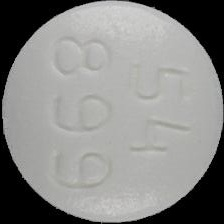0615-3593: (0, 0, 224, 224)
